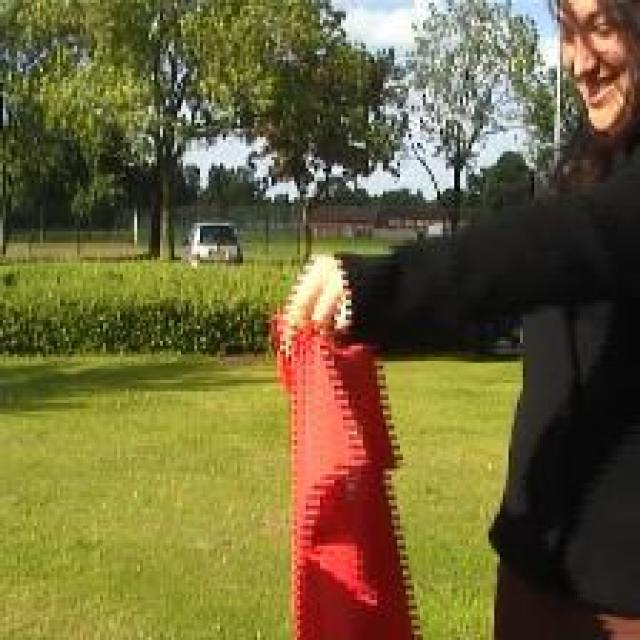other: (268, 303, 426, 634)
